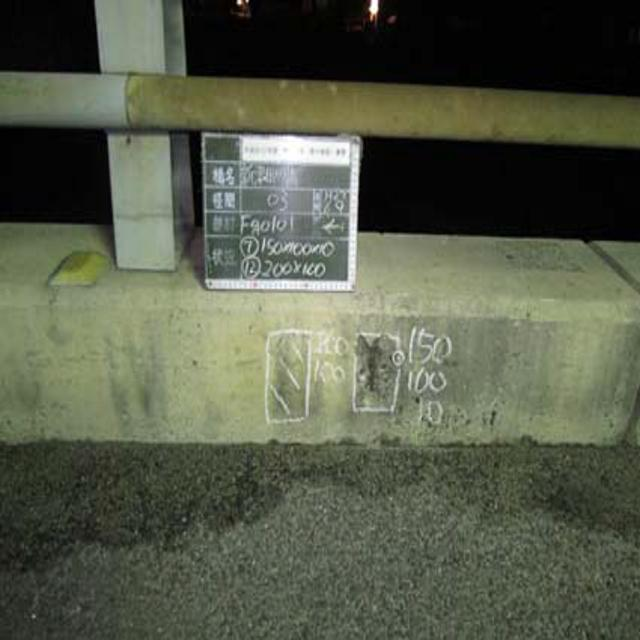spalling: (337, 307, 407, 436)
